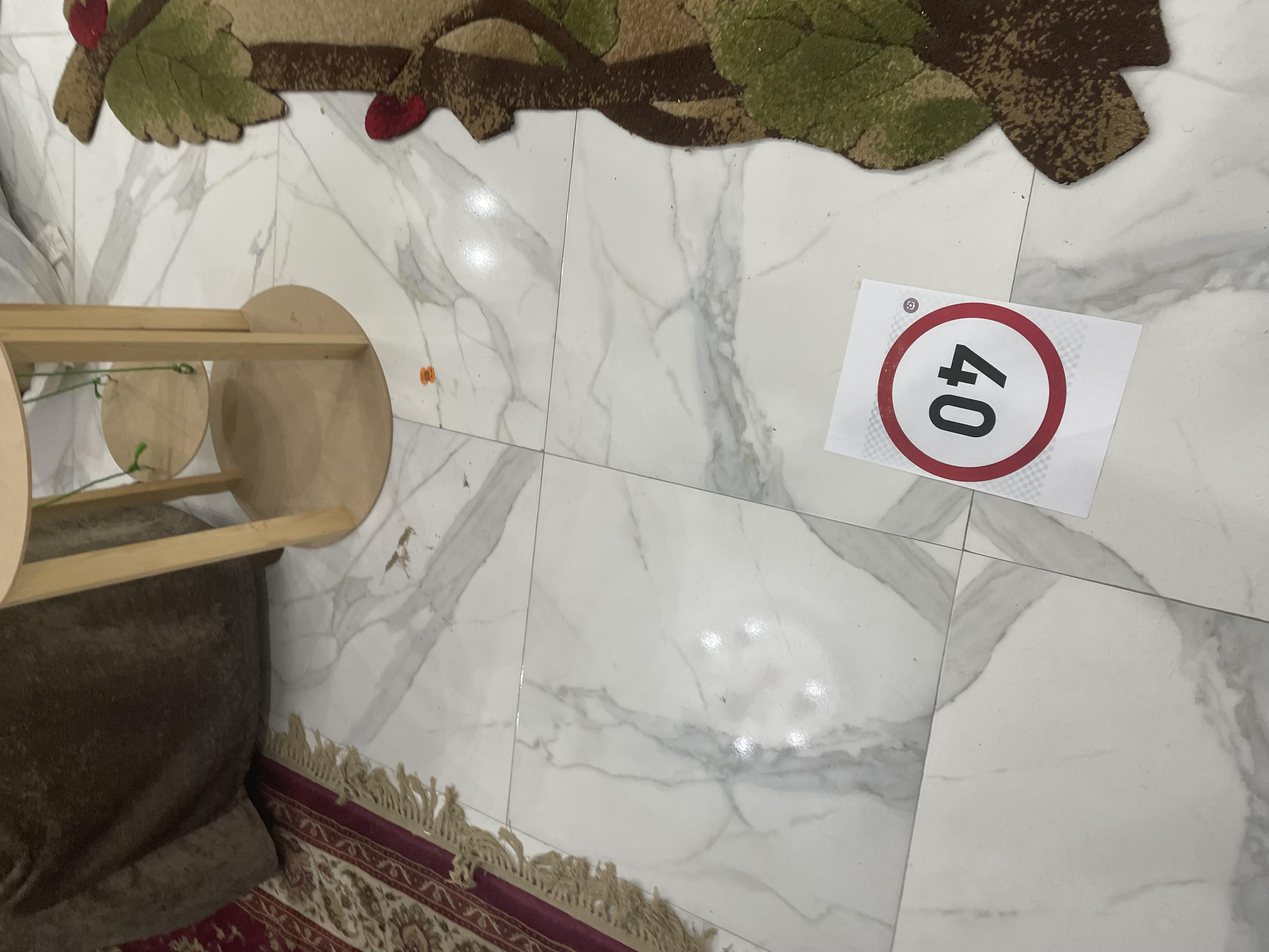40-Speed: (399, 143, 649, 295)
